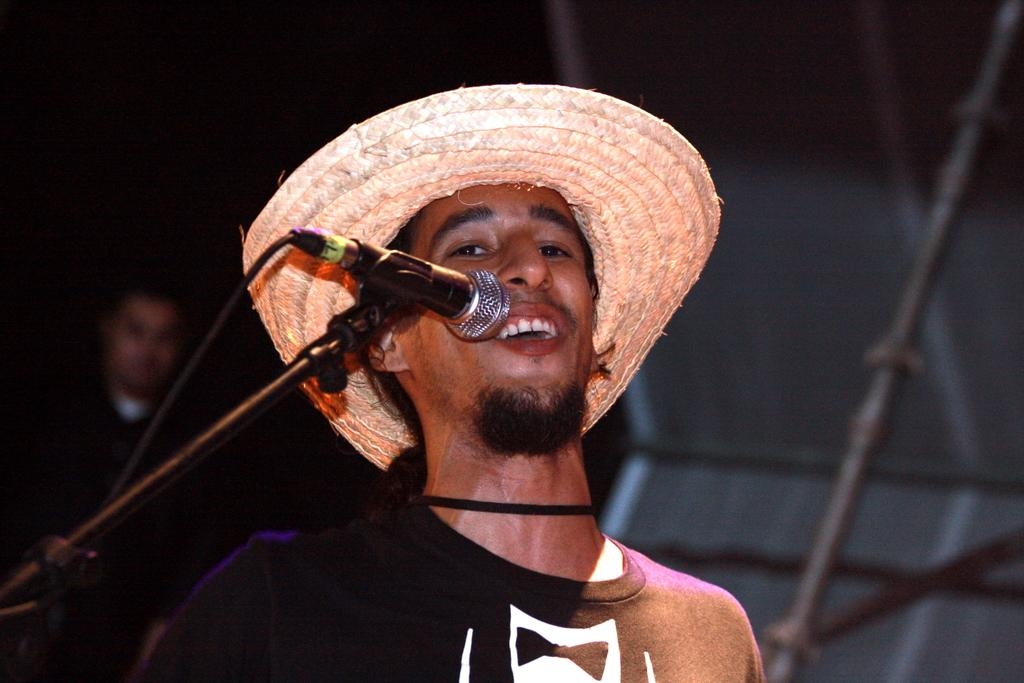Hat: (237, 83, 720, 472)
